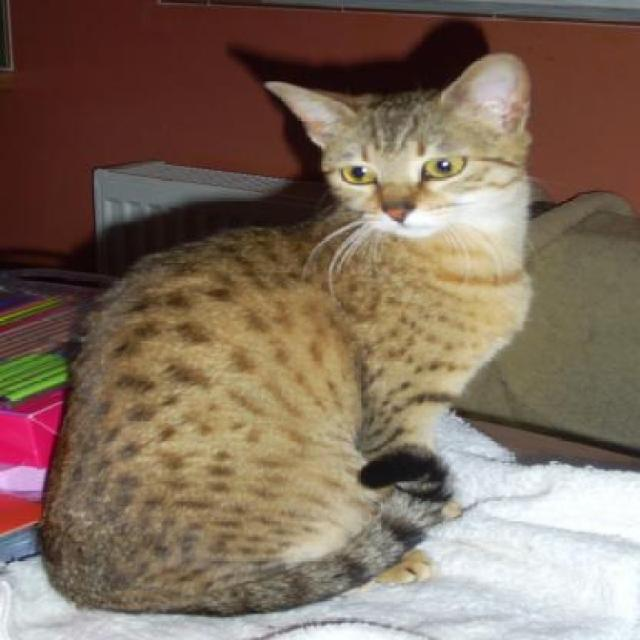cat: (38, 55, 530, 616)
